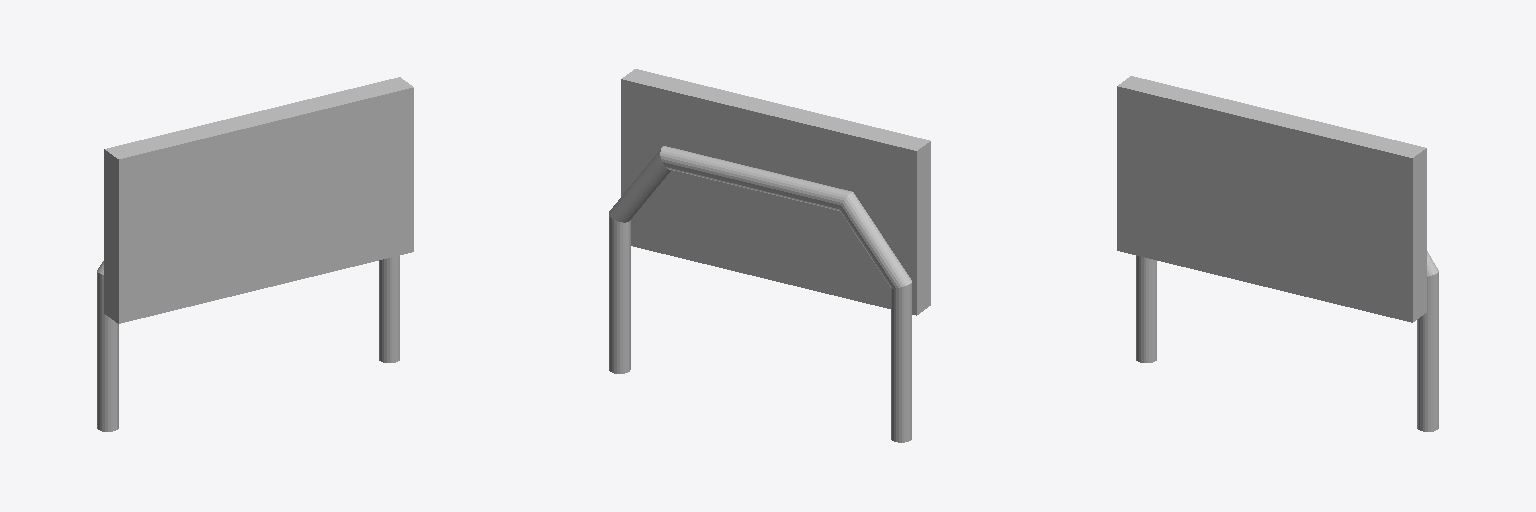
The model's file is indicador.obj.
3 views of the same model, side by side, from view 1: azimuth 30°, elevation 25°; view 2: azimuth 150°, elevation 25°; view 3: azimuth 330°, elevation 25° (orthographic).
Visible parts, largest first — view 1: Layer0_001; view 2: Layer0_001; view 3: Layer0_001.
Part boxes in pixels (left/top/right/bottom): Layer0_001: left=97, top=77, right=413, bottom=431; Layer0_001: left=609, top=69, right=930, bottom=442; Layer0_001: left=1117, top=76, right=1438, bottom=431.
Bounding box in the file's own units: 79.33 × 71.87 × 11.67.